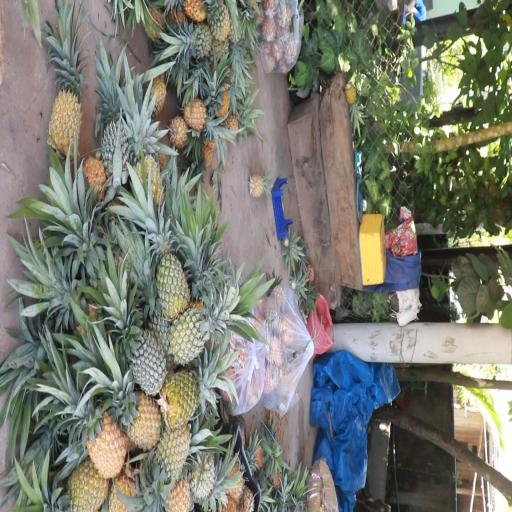------------------------------: (170, 288, 236, 364), (163, 356, 235, 424), (144, 206, 189, 313)
Pineapple - v8 v1: (66, 384, 128, 476), (45, 28, 87, 160), (101, 363, 161, 449), (142, 412, 190, 506), (46, 459, 110, 512), (182, 92, 228, 143)
